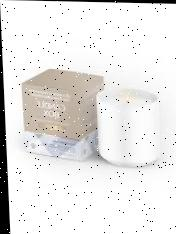cube: (17, 68, 103, 162)
